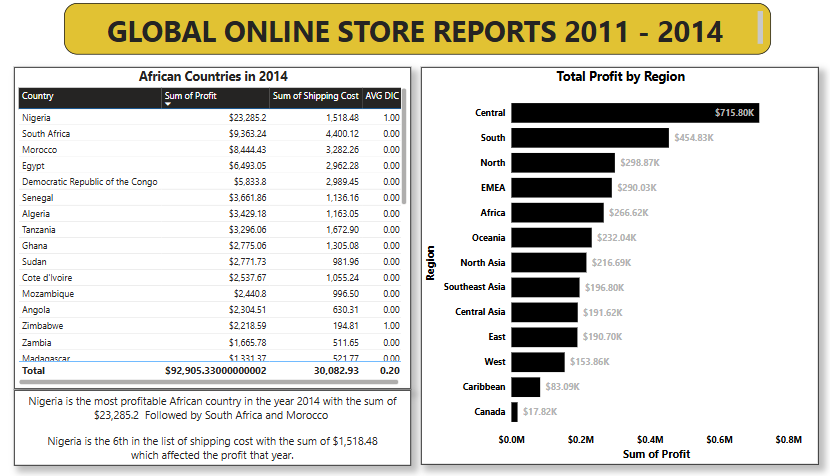

This screenshot's page, from the dashboard's own definition file:
{"tool":"powerbi","page":{"name":"Page 3","canvas":[1280,720],"ordinal":2},"visuals":[{"type":"tableEx","title":"African Countries in 2014","fields":{"Values":["Order.Country","Sum(Order.Profit)","Sum(Order.Shipping Cost)","Order.AVG DIC"]},"box":[33.4,109.6,592.6,481.2],"z":0},{"type":"textbox","box":[33.4,590.8,592.6,113.3],"z":1},{"type":"textbox","box":[107.3,13.1,1056.4,77.2],"z":2},{"type":"clusteredBarChart","title":"Total Profit by Region","fields":{"Y":["Sum(Order.Profit)"],"Category":["Order.Region"]},"box":[640.9,109.6,594.5,594.5],"z":3}]}

Visuals, with their boxes in screenshot pixels (x1, y1, x2, y2), scaled from the page's 1280x720 canvas onto the 830x476 screenshot:
"African Countries in 2014" tableEx: box(22, 72, 406, 391)
textbox: box(22, 391, 406, 465)
textbox: box(70, 9, 755, 60)
"Total Profit by Region" clusteredBarChart: box(416, 72, 801, 465)
